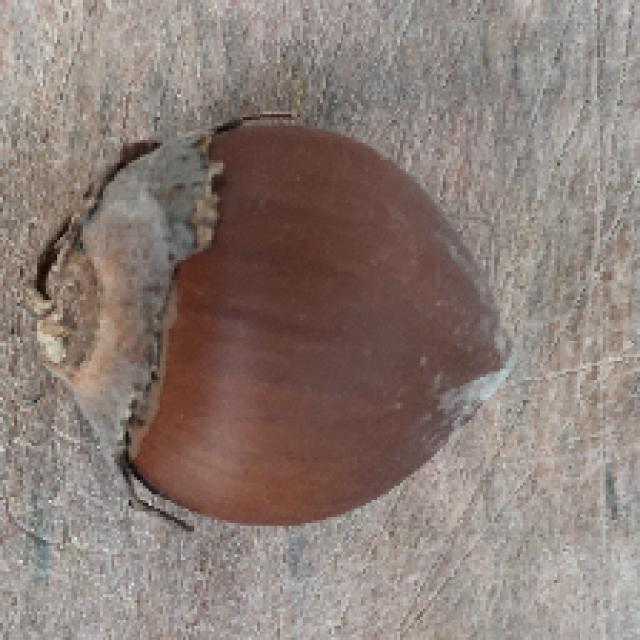damagedHazelnut: (31, 115, 517, 527)
